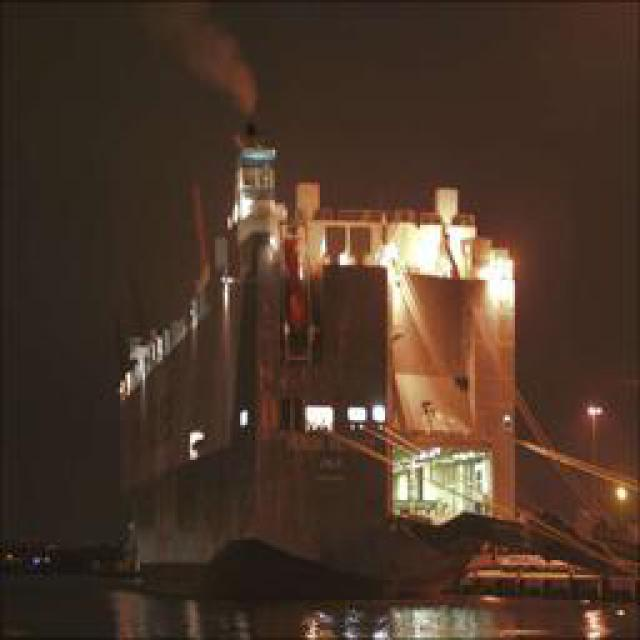Ship: (96, 97, 538, 602)
